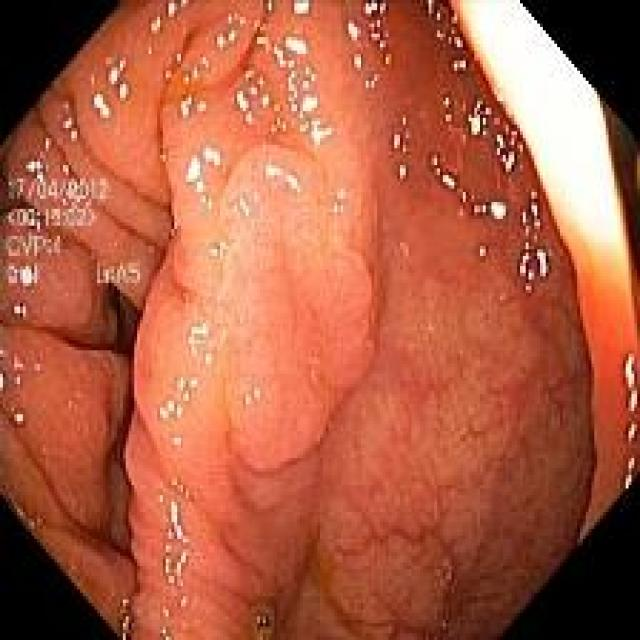Polyps: (218, 144, 374, 474)
